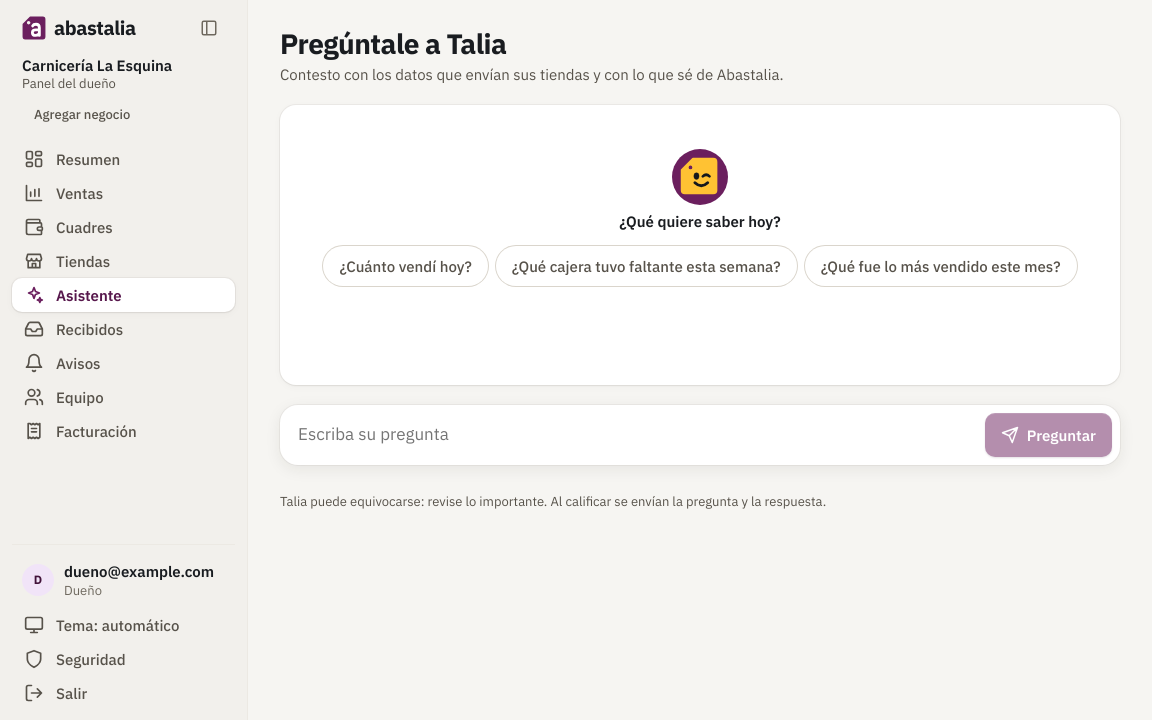
Scenario: TK-339: a route outside the shared list gets no button
Click the button "¿Cuánto vendí hoy?" at [406, 266], box [324,246,488,286]
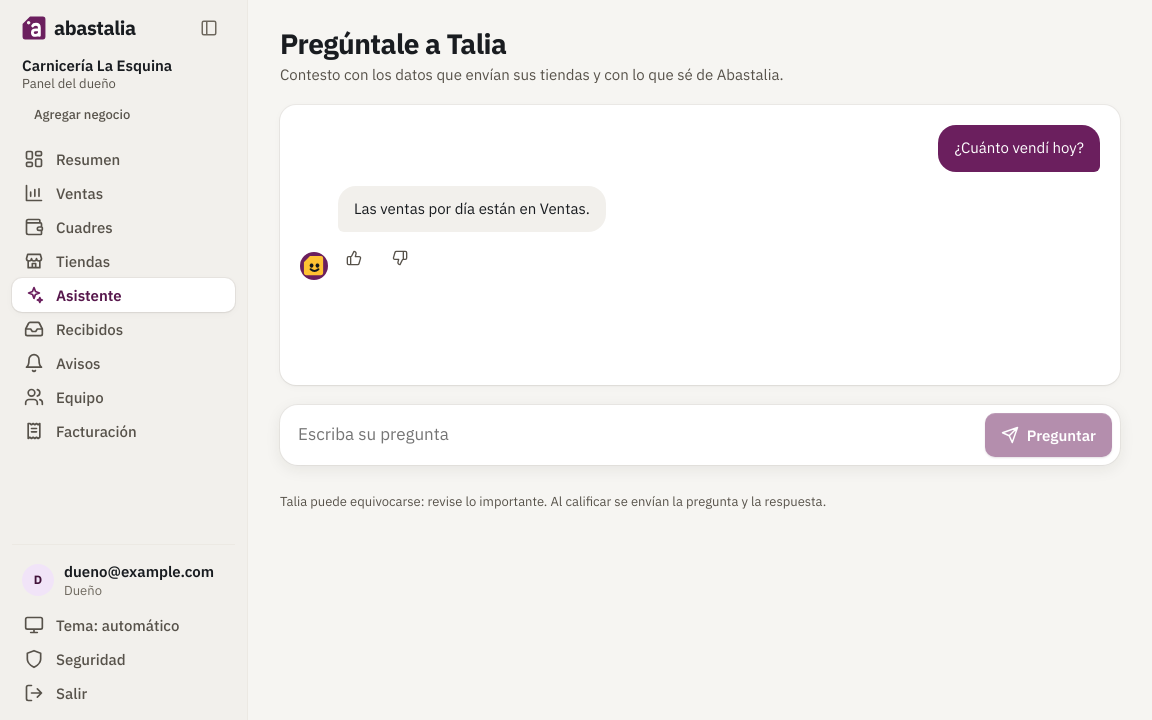
expect the text "Las ventas por día están en Ventas." is shown: met, box [338,186,606,232]
